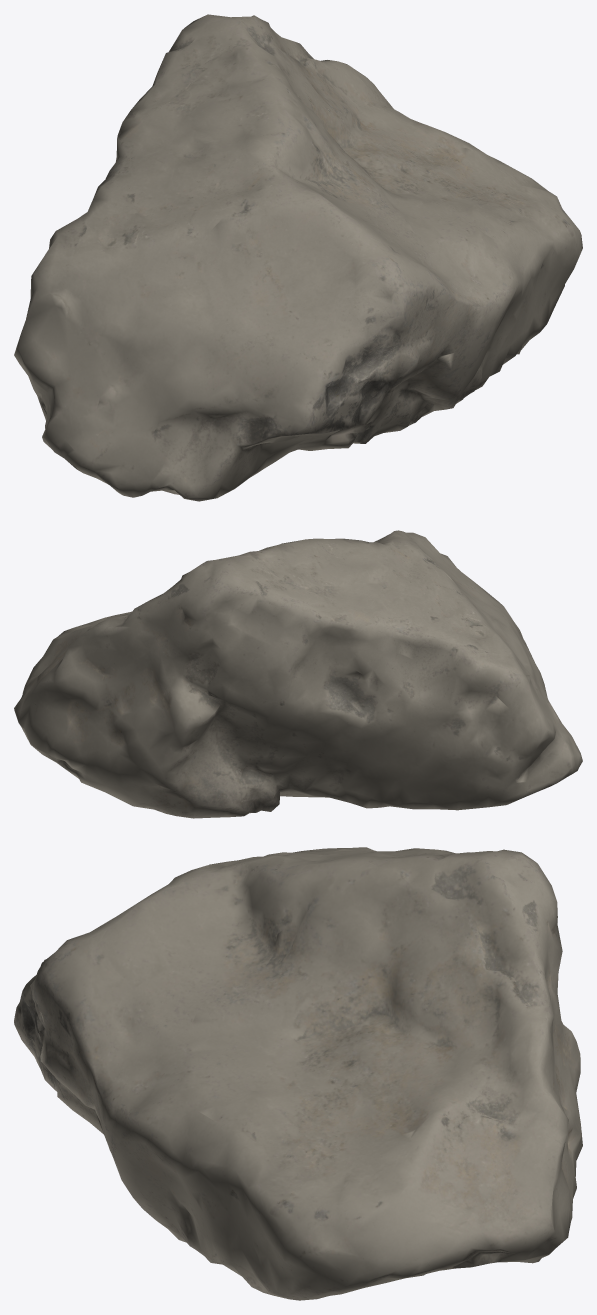
File: moon_rock_03_2k.gltf
The picture shows the model from 3 angles, top to bottom: view 1: azimuth 30°, elevation 25°; view 2: azimuth 150°, elevation 25°; view 3: azimuth 270°, elevation 25°; orthographic projection. The views are drawn at different scales.
Visible parts, largest first — view 1: moon_rock_03_LOD0; view 2: moon_rock_03_LOD0; view 3: moon_rock_03_LOD0.
Part boxes in pixels (bbox=[...]): moon_rock_03_LOD0: bbox=[14, 14, 582, 501]; moon_rock_03_LOD0: bbox=[14, 530, 582, 818]; moon_rock_03_LOD0: bbox=[14, 847, 582, 1300].
Bounding box in the file's own units: 0.112 × 0.0582 × 0.0861.
Materials: 1 (1 with a texture image).
